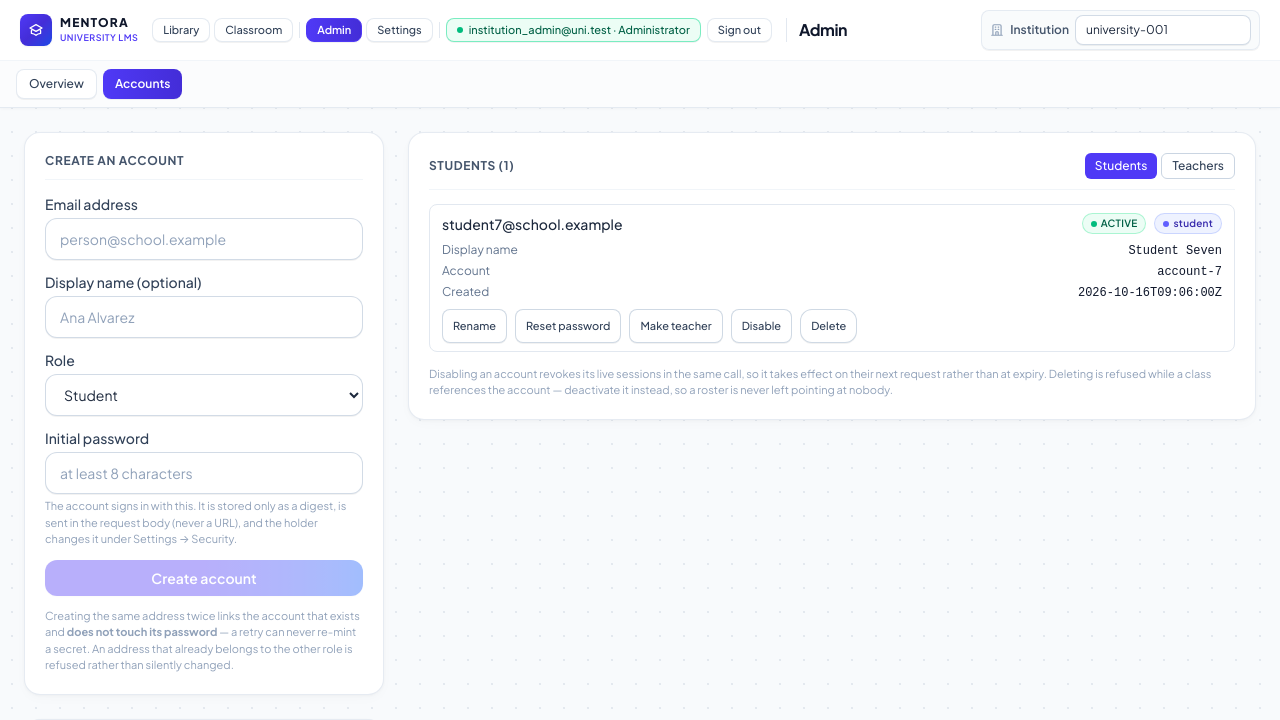
Test: AdminPage — the directory, by capability › disables an account and reports the sessions it revoked
The width and height of the screenshot is (1280, 720).
Click the button "Disable": (761, 326) top-left (731, 309), bottom-right (792, 343)
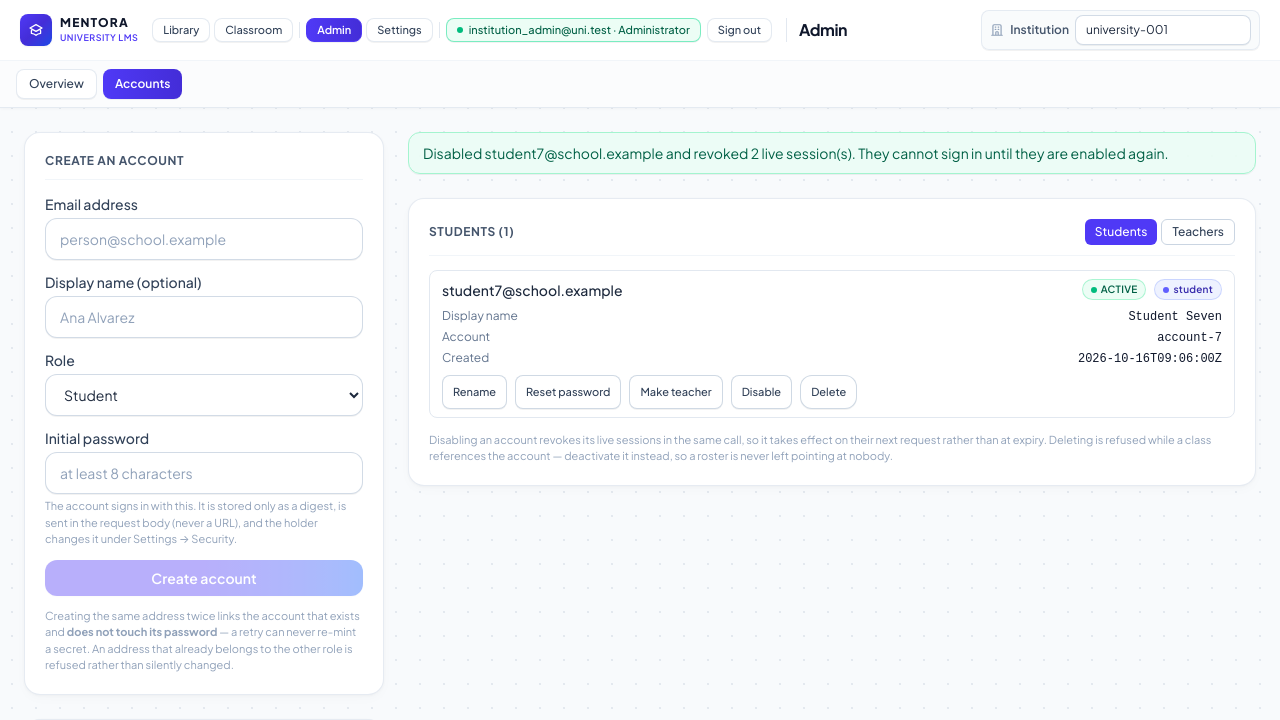
Check: the text "revoked 2 live session" is shown, box top-left (423, 144), bottom-right (1169, 162)
